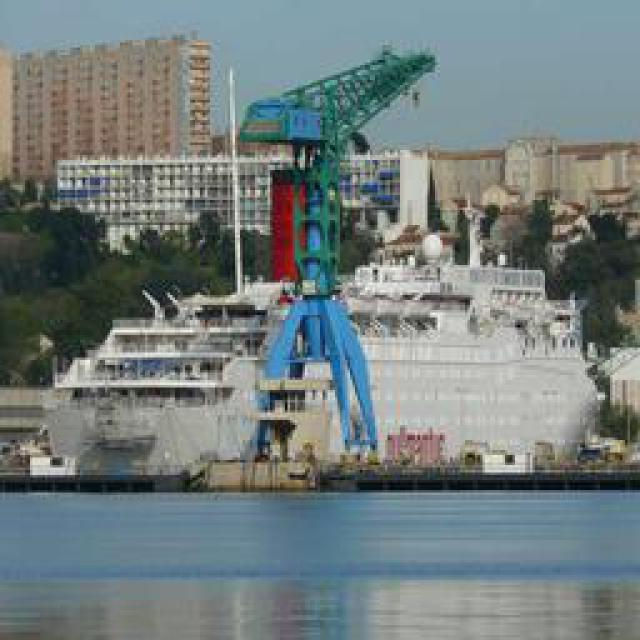Ship: (78, 155, 603, 485)
